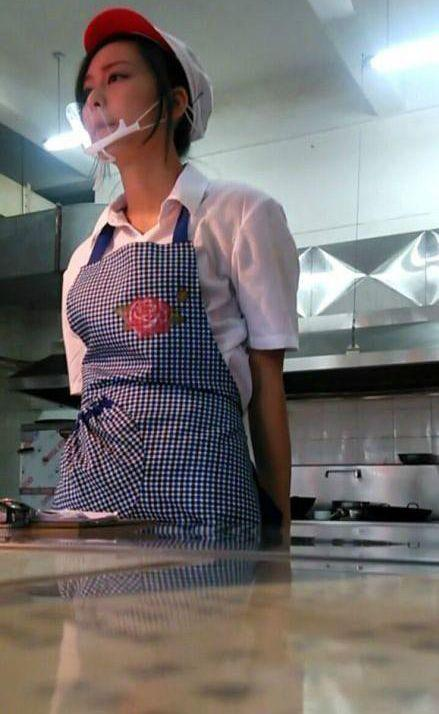WRONG: (76, 58, 180, 162)
